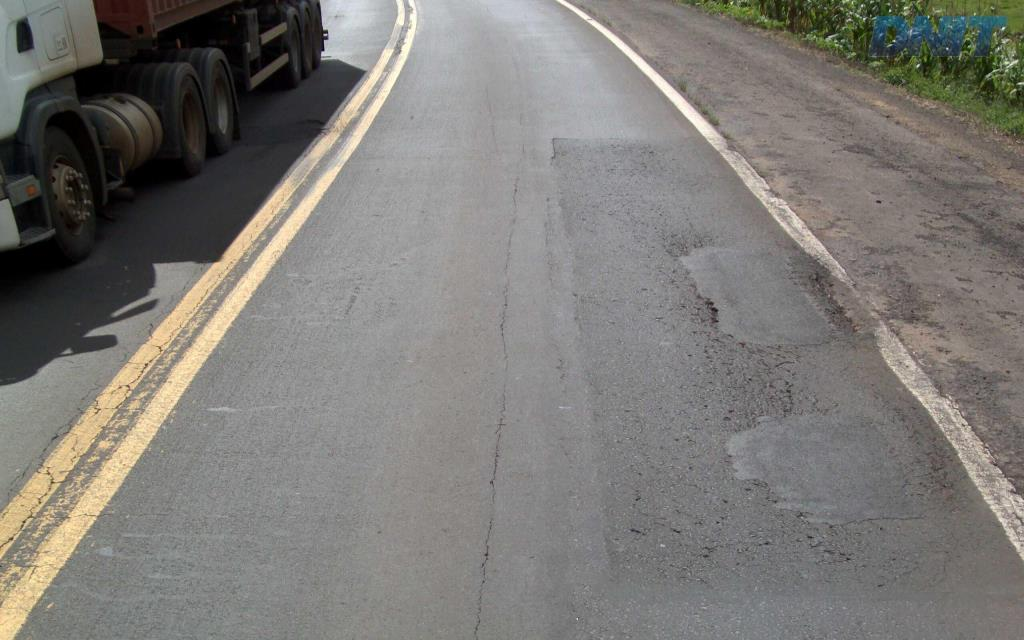crack: (807, 269, 852, 331)
